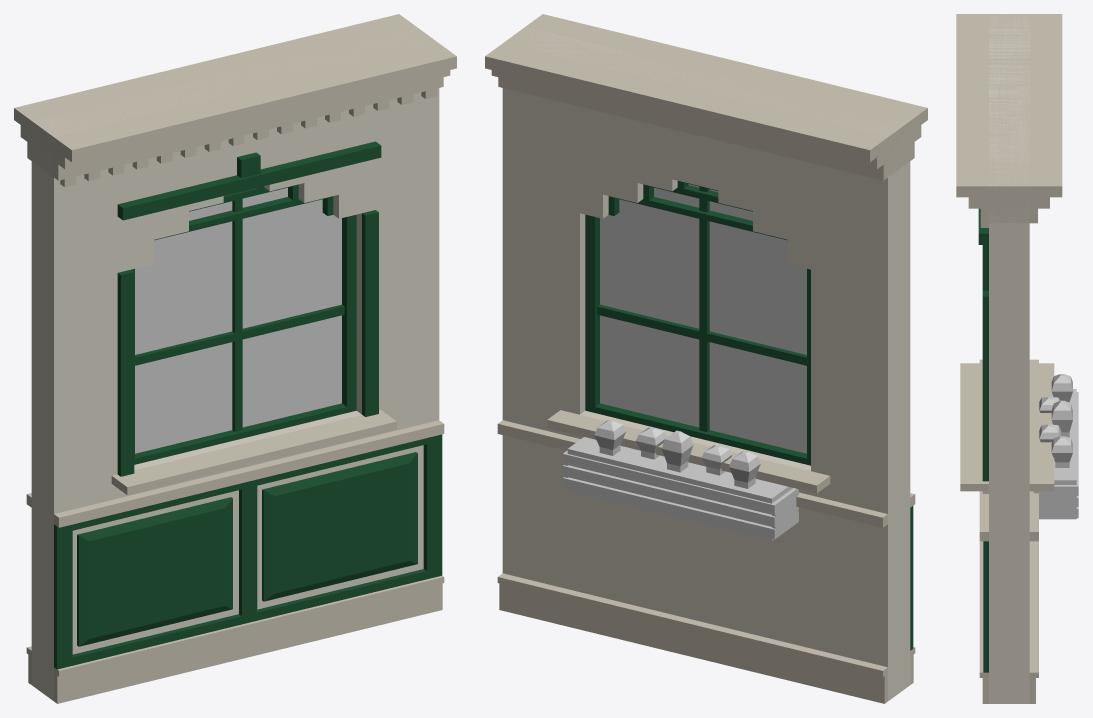
File: PROP_WallWindow.fbx
The picture shows the model from 3 angles, left to right: view 1: azimuth 30°, elevation 25°; view 2: azimuth 150°, elevation 25°; view 3: azimuth 270°, elevation 25°; orthographic projection. The views are drawn at different scales.
Visible parts, largest first — view 1: wall_window_planter_plant_5; view 2: wall_window_planter_plant_5; view 3: wall_window_planter_plant_5.
Part boxes in pixels (box(x1,y1,x2,y2)): wall_window_planter_plant_5: box(14, 14, 456, 703); wall_window_planter_plant_5: box(485, 14, 927, 703); wall_window_planter_plant_5: box(956, 14, 1078, 703).
Bounding box in the file's own units: 2 × 2.8 × 0.6.
